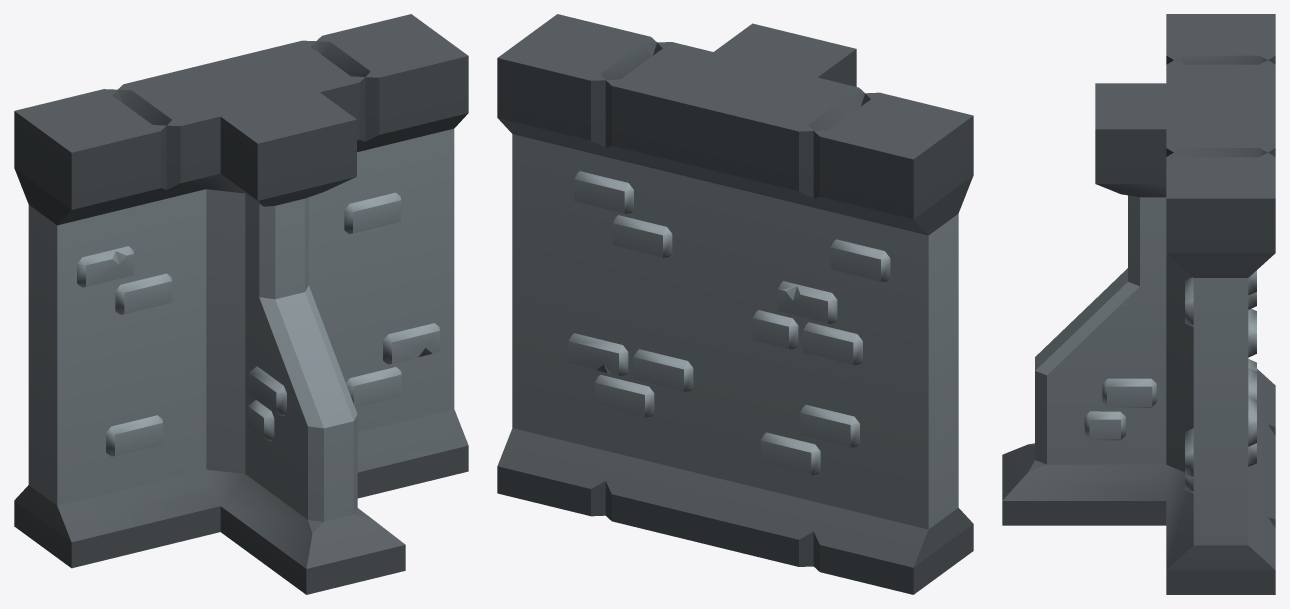
The model's file is wall_Tsplit_sloped.gltf.
The picture shows the model from 3 angles, left to right: view 1: azimuth 30°, elevation 25°; view 2: azimuth 150°, elevation 25°; view 3: azimuth 270°, elevation 25°; orthographic projection. The views are drawn at different scales.
Parts seen in each view (by area): view 1: wall_Tsplit_sloped; view 2: wall_Tsplit_sloped; view 3: wall_Tsplit_sloped.
Part boxes in pixels (left/top/right/bottom): wall_Tsplit_sloped: left=14, top=14, right=468, bottom=594; wall_Tsplit_sloped: left=497, top=14, right=973, bottom=594; wall_Tsplit_sloped: left=1002, top=14, right=1275, bottom=594.
Bounding box in the file's own units: 4 × 4 × 2.5.
1 material, 1 textured.
